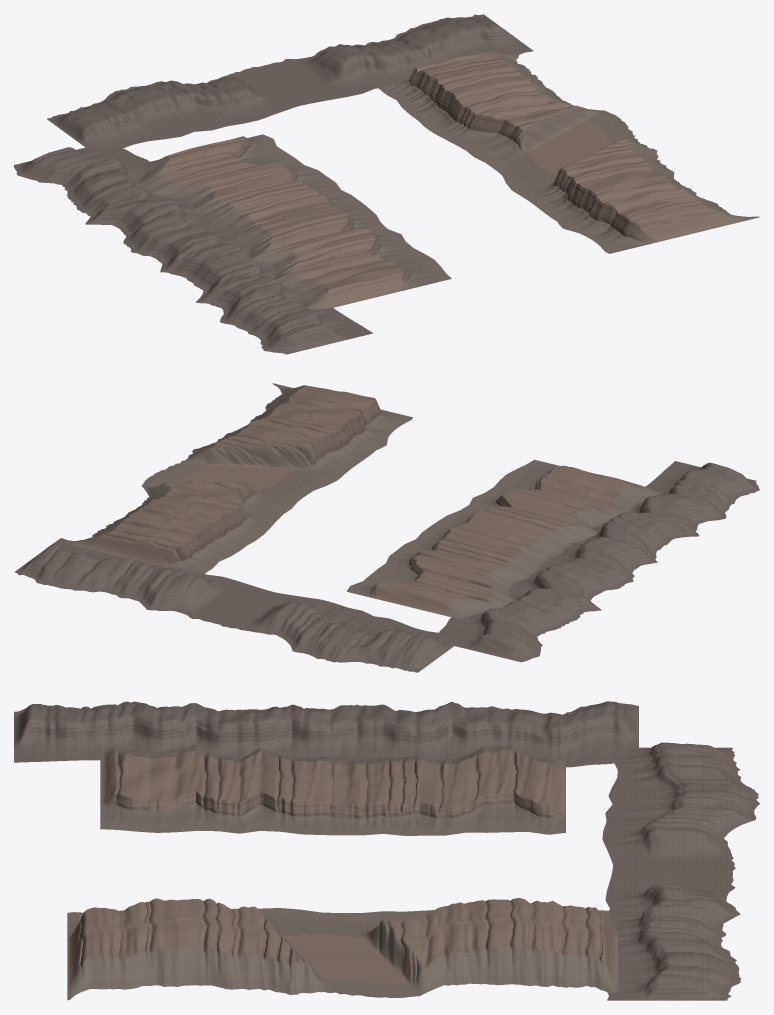
File: SM_Caliche_Mesas.glb
3 renders of one model, top to bottom at view 1: azimuth 30°, elevation 25°; view 2: azimuth 150°, elevation 25°; view 3: azimuth 270°, elevation 25°, orthographic. The views are drawn at different scales.
Visible parts, largest first — view 1: SM_Caliche_Mesas; view 2: SM_Caliche_Mesas; view 3: SM_Caliche_Mesas.
Part boxes in pixels (box(x1,y1,x2,y2)): SM_Caliche_Mesas: box(14, 14, 759, 354); SM_Caliche_Mesas: box(14, 383, 759, 672); SM_Caliche_Mesas: box(14, 701, 759, 1000).
Bounding box in the file's own units: 5322 × 243 × 5610.
Materials: 6 (6 with a texture image).
